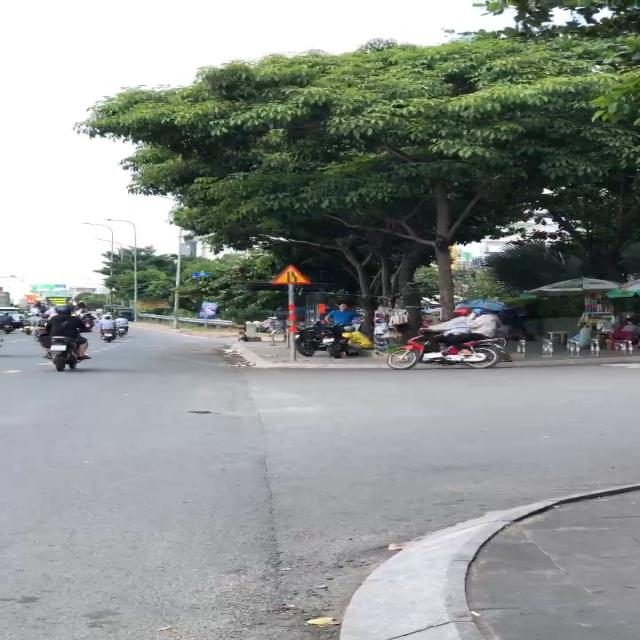Bien bao duong bi thu hep: (267, 264, 313, 286)
